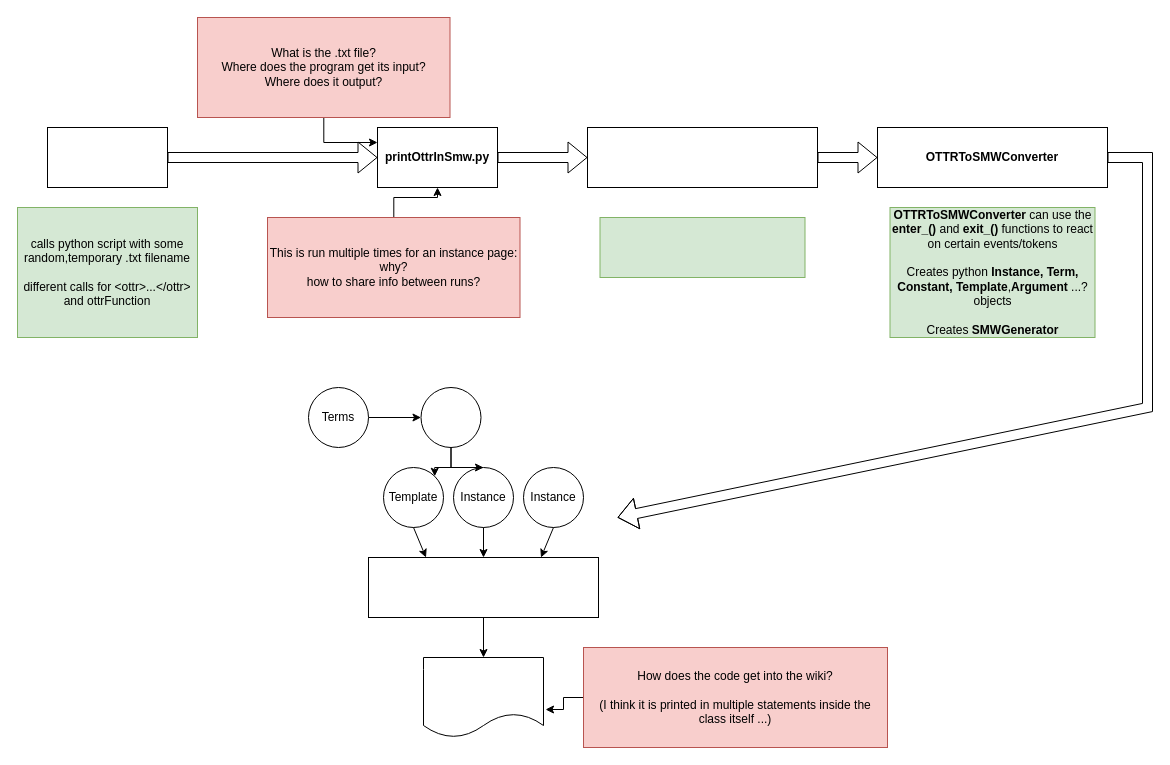
Some shapes in this 1170 by 765 pixel diagram are drawn without their labels. The box of each missing label's shape, as (x1, y1, x2, y2) in pixels:
antlr tokenizes the input: (599, 216, 805, 278)
antlr4: (586, 126, 818, 188)
Arguments: (420, 386, 481, 448)
Hooks.php: (46, 126, 168, 188)
smw_code: (422, 656, 544, 738)
SMWGenerator: (368, 556, 598, 618)
